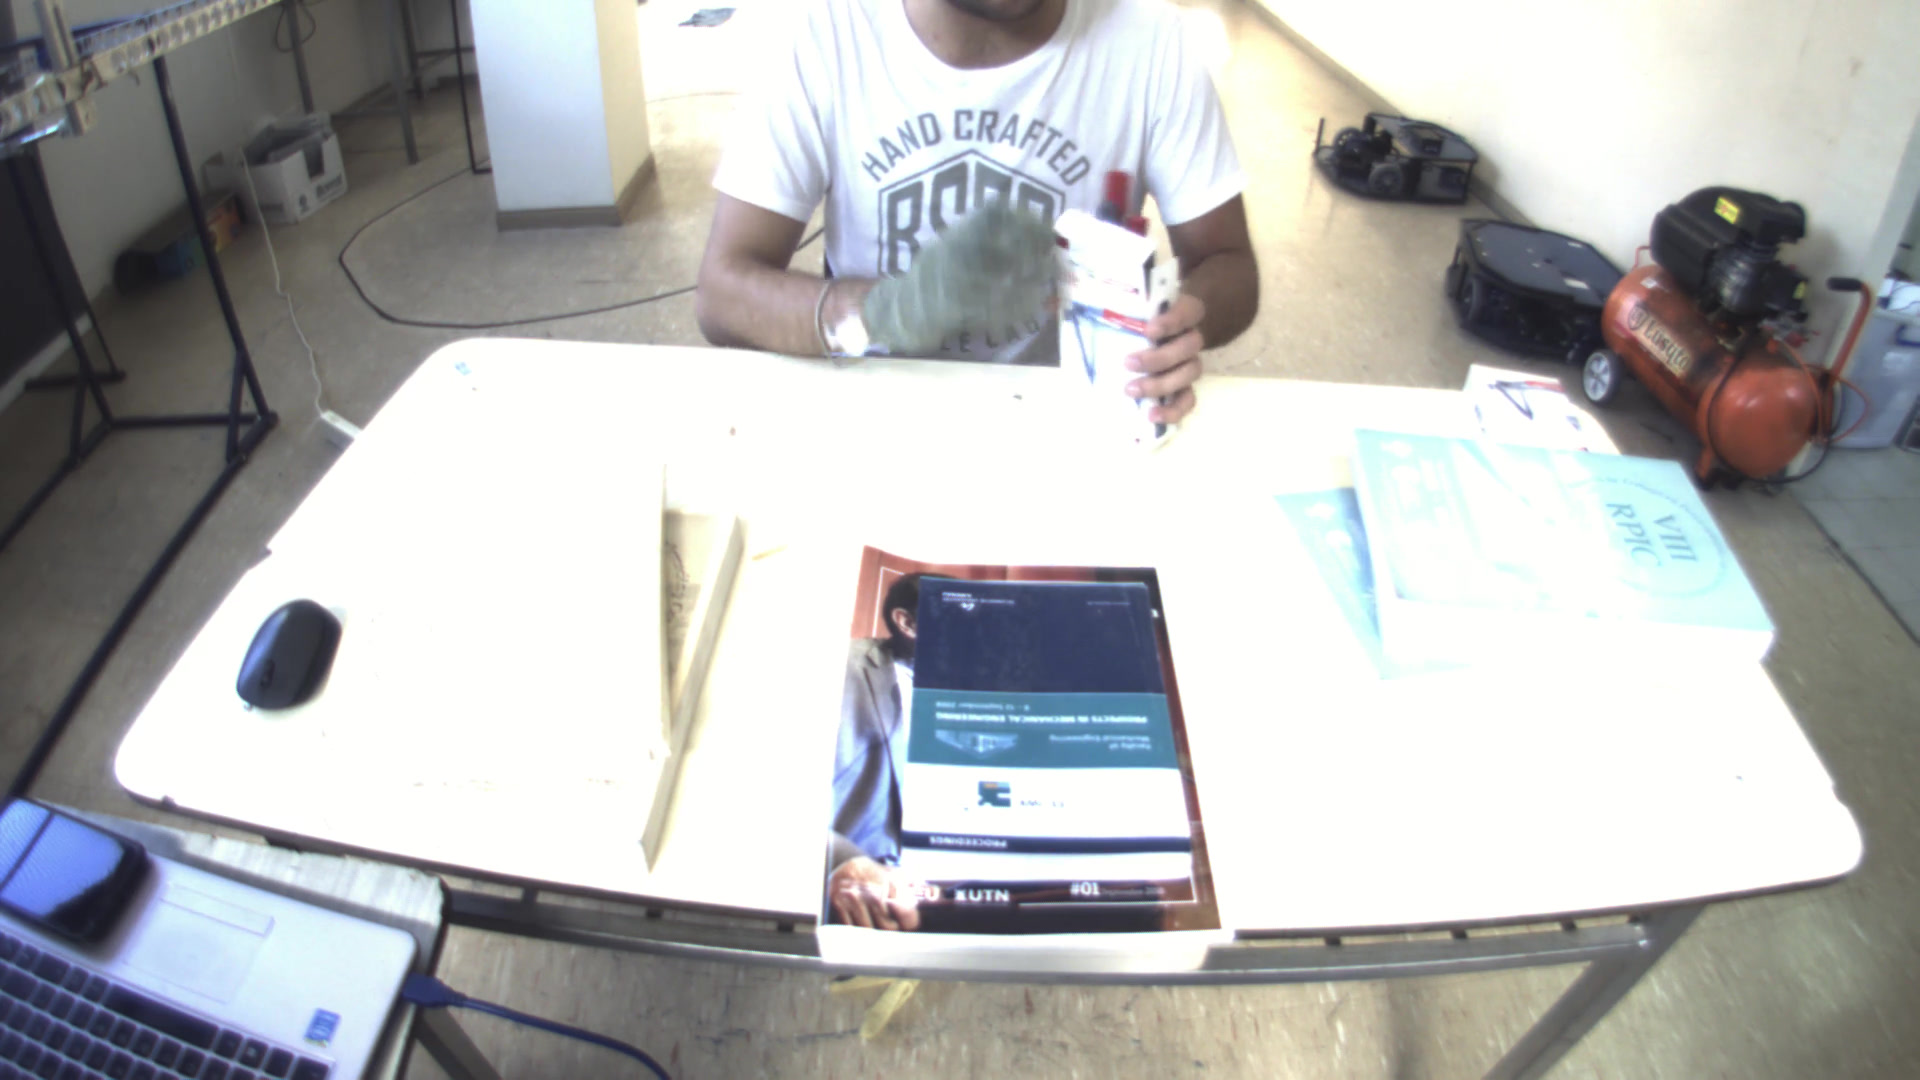hand: (855, 193, 1071, 353), (1112, 285, 1221, 431)
